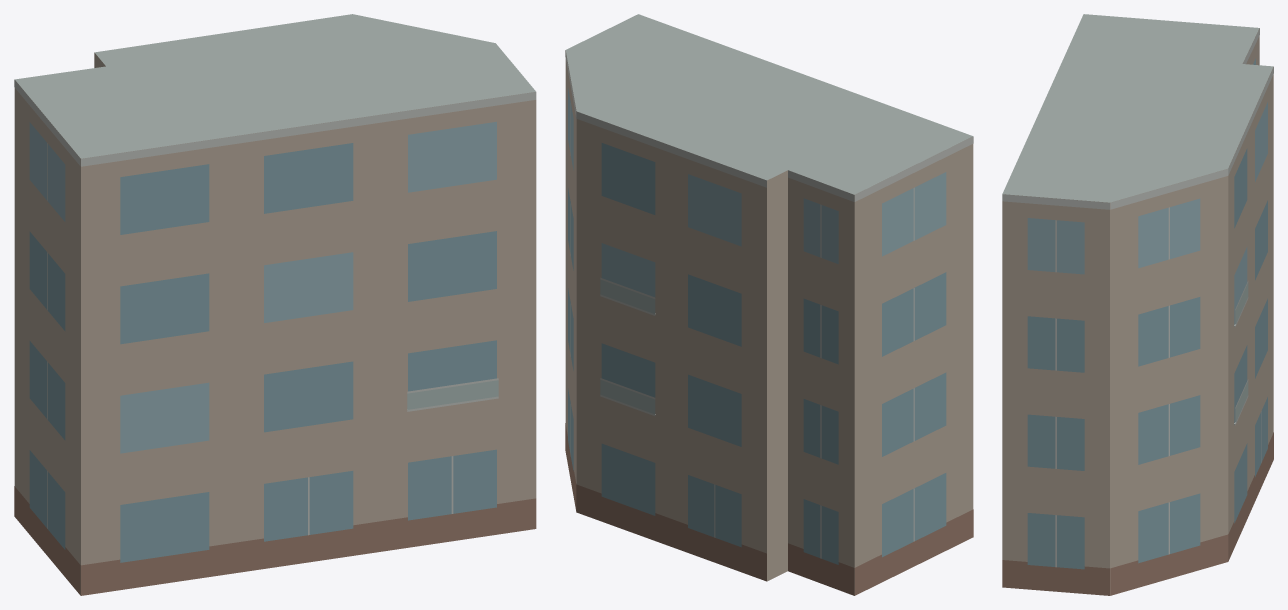
The model's file is survey-upis-32539682.glb.
3 renders of one model, left to right at view 1: azimuth 30°, elevation 25°; view 2: azimuth 150°, elevation 25°; view 3: azimuth 270°, elevation 25°, orthographic. The views are drawn at different scales.
Visible parts, largest first — view 1: survey-upis-32539682.tmp; view 2: survey-upis-32539682.tmp; view 3: survey-upis-32539682.tmp.
Part boxes in pixels (bbox=[...]): survey-upis-32539682.tmp: bbox=[14, 14, 536, 595]; survey-upis-32539682.tmp: bbox=[565, 14, 973, 595]; survey-upis-32539682.tmp: bbox=[1002, 14, 1273, 595].
Size of the model in its own units: 13.69 by 13.3 by 8.33.
